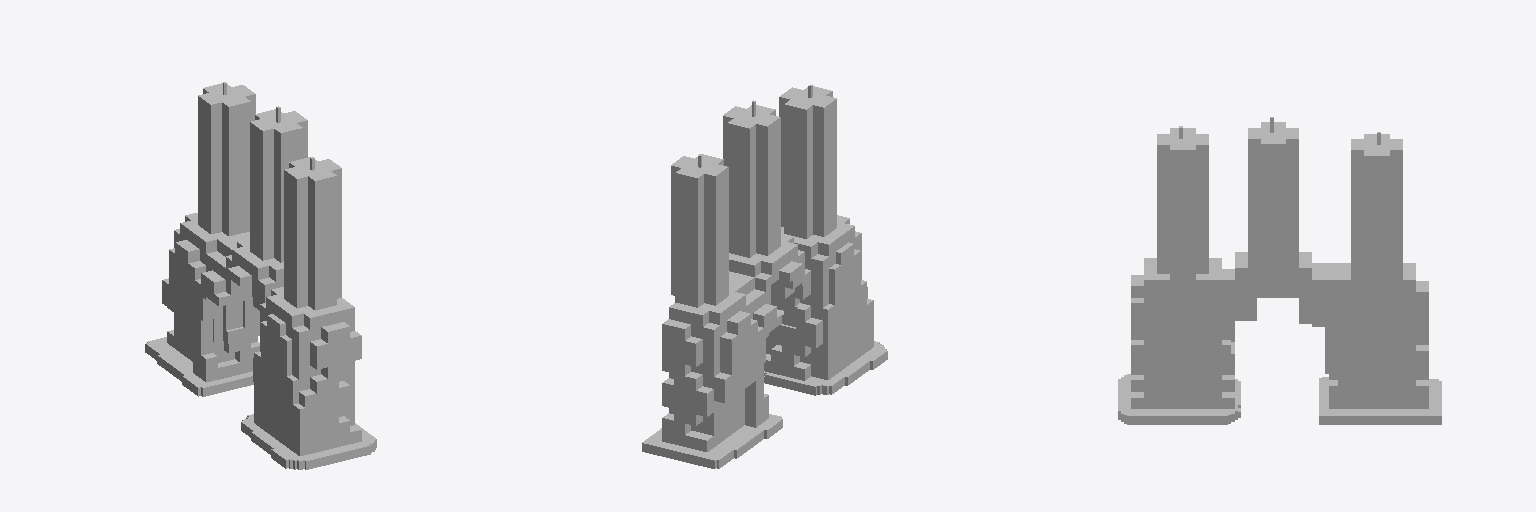
Rendered from podsvech 2.obj.
3 renders of one model, left to right at view 1: azimuth 30°, elevation 25°; view 2: azimuth 150°, elevation 25°; view 3: azimuth 270°, elevation 25°, orthographic.
Bounding box in the file's own units: 32 × 100 × 100.